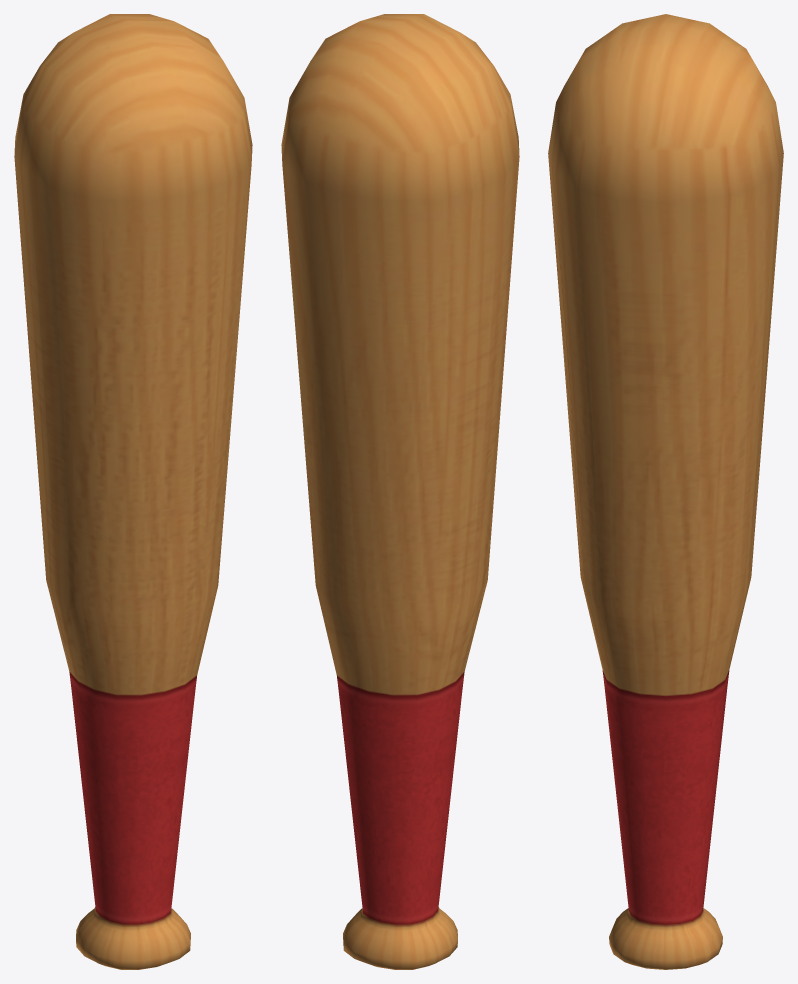
The model's file is baseballbat.fbx.
3 renders of one model, left to right at view 1: azimuth 30°, elevation 25°; view 2: azimuth 150°, elevation 25°; view 3: azimuth 270°, elevation 25°, orthographic.
Parts seen in each view (by area): view 1: baseballbat; view 2: baseballbat; view 3: baseballbat.
Boxes of the visible parts, <box> form: baseballbat: <box>14,14,252,969</box>; baseballbat: <box>281,14,519,969</box>; baseballbat: <box>548,14,783,969</box>.
Bounding box in the file's own units: 15.38 × 66.72 × 15.38.
